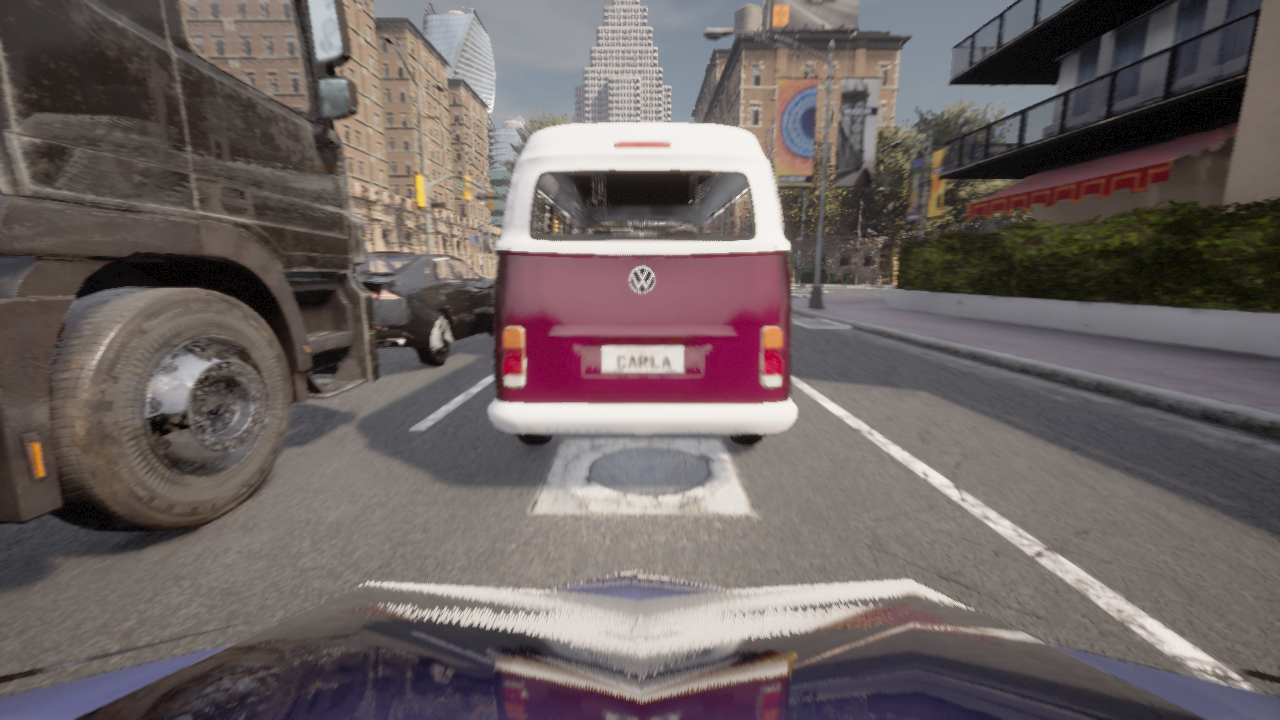cyclist: (0, 569, 1279, 719), (488, 123, 796, 445), (357, 251, 494, 367), (882, 271, 883, 277)
